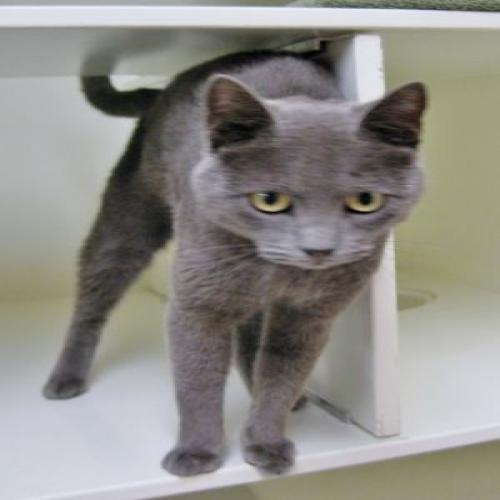rblue: (174, 68, 456, 287)
